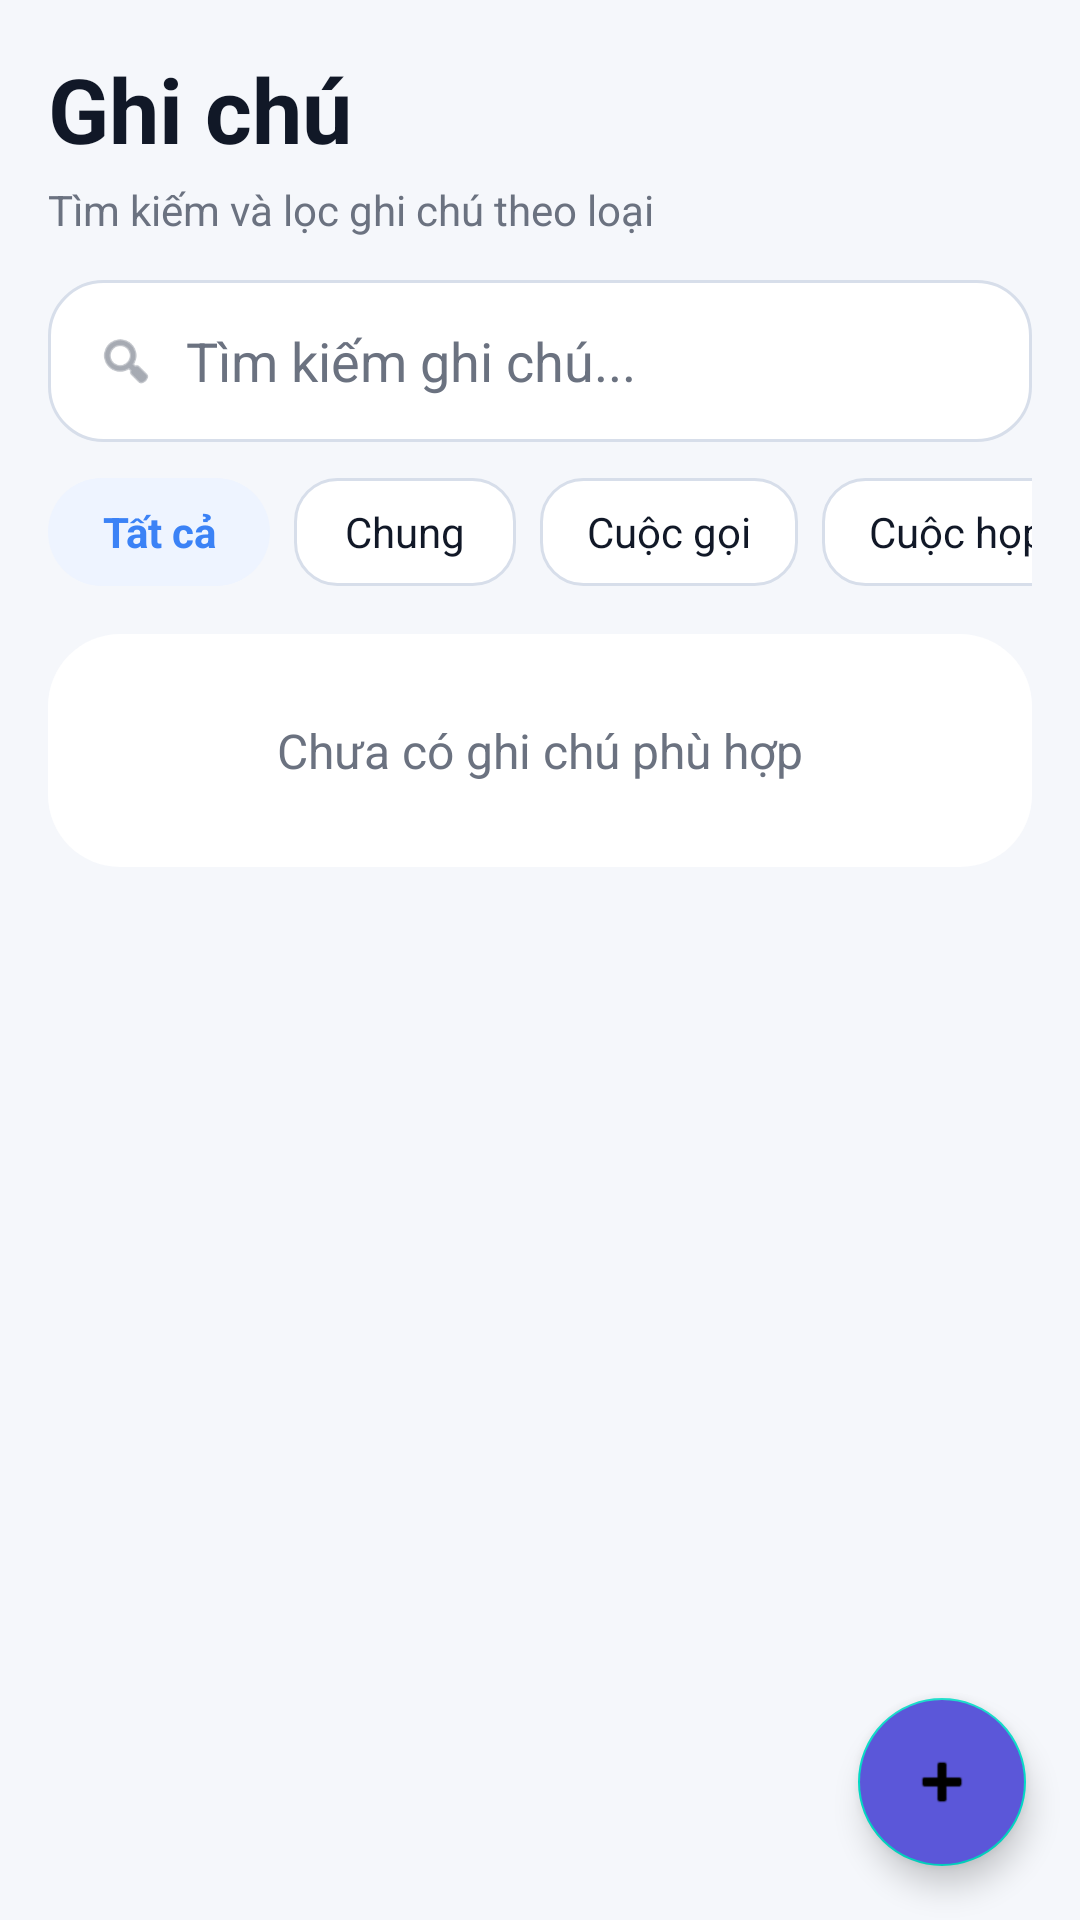

Named icons in this screenshot (1080 × 1920) and their bounding boxes, (x1, y1, x2, y2):
add: (858, 1698, 1026, 1866)
search: (104, 339, 148, 383)
